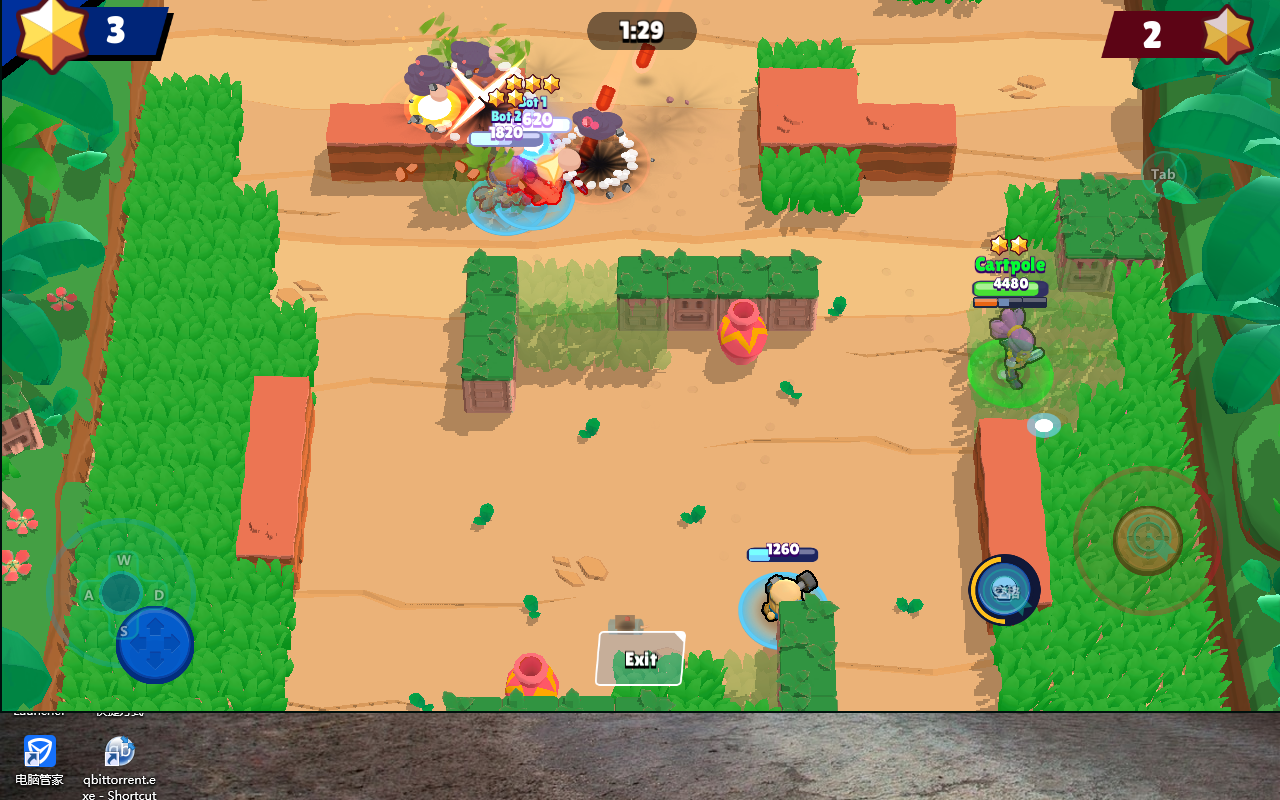current_player: (965, 340, 1054, 408)
